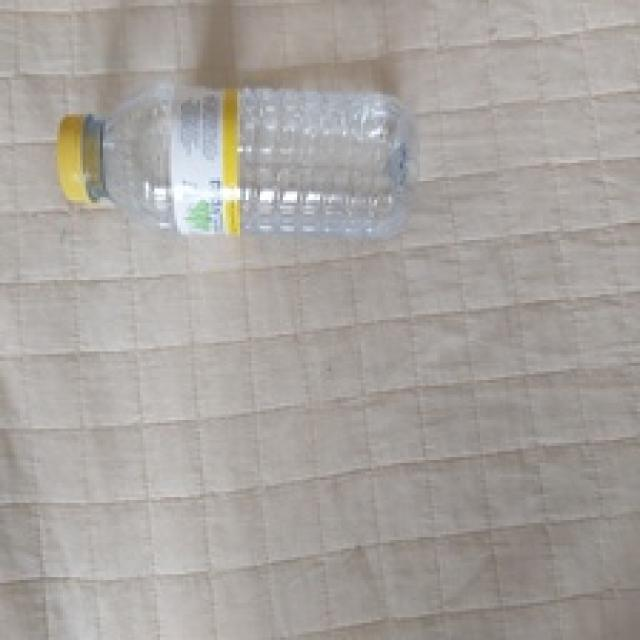Plastic: (57, 82, 415, 240)
